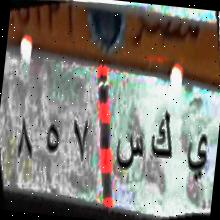5: (40, 116, 64, 160)
7: (67, 115, 92, 166)
8: (14, 110, 38, 170)
kaaf: (146, 102, 176, 170)
seen: (112, 122, 146, 182)
yaa: (182, 117, 214, 191)
